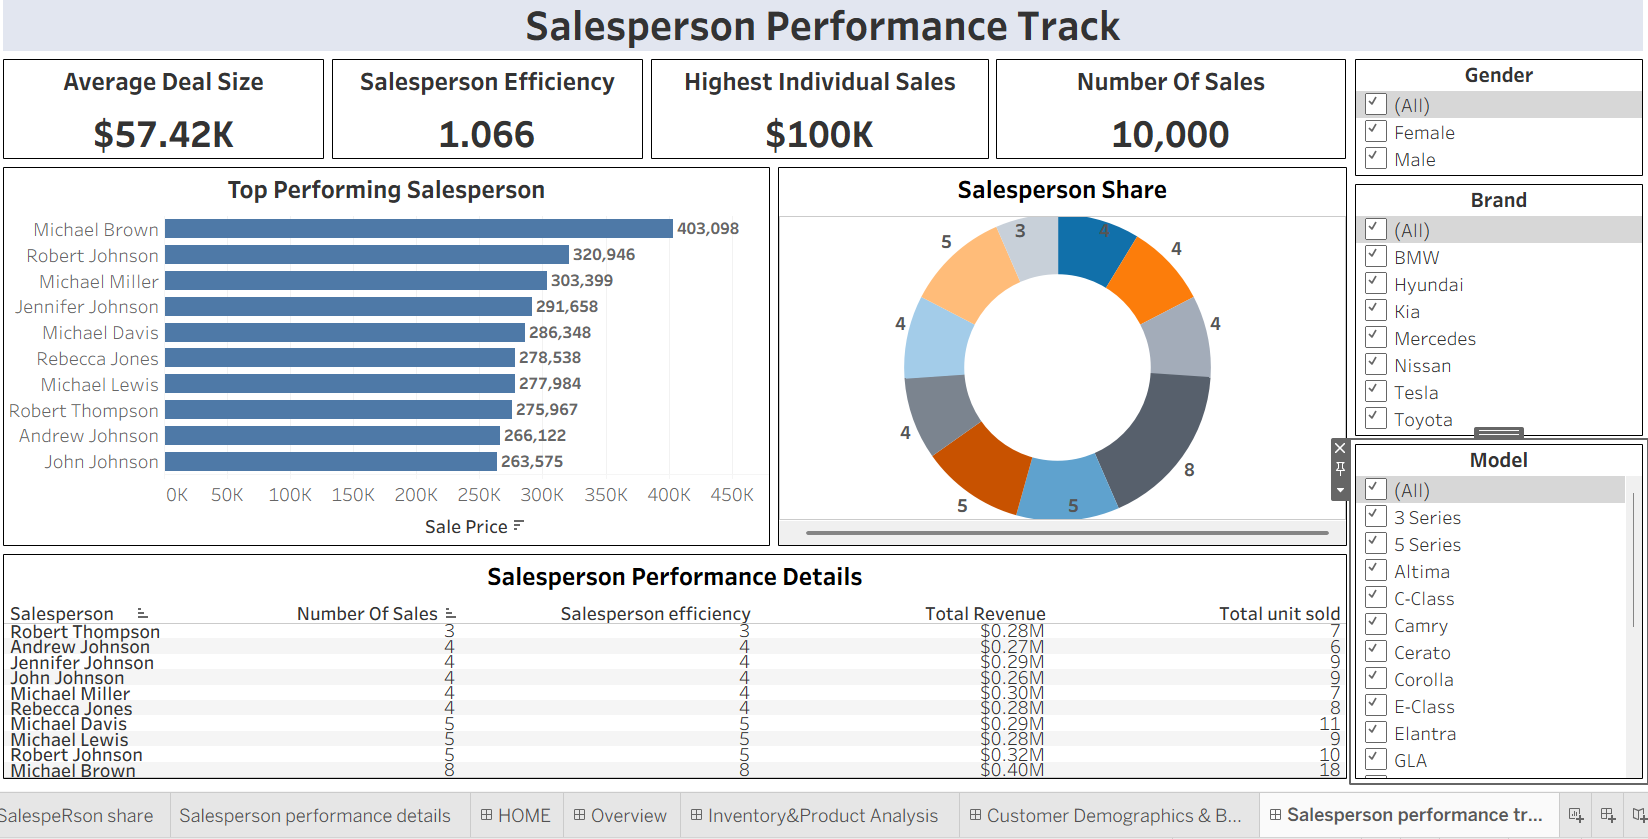

This screenshot's page, from the dashboard's own definition file:
{"tool":"tableau","page":{"name":"Salesperson performance track","canvas":[1000,1000],"units":"permille","ordinal":4},"visuals":[{"type":"title","box":[4.8,9.9,990.4,76.9]},{"type":"worksheet","title":"Average deal size","mark":"Automatic","box":[4.8,86.9,197.9,134]},{"type":"worksheet","title":"salesperson efficiency","mark":"Automatic","box":[202.7,86.9,191.5,134]},{"type":"worksheet","title":"Highest individual sale","mark":"Automatic","box":[394.2,86.9,207.6,134]},{"type":"worksheet","title":"Number of sales","mark":"Automatic","box":[601.9,86.9,215.4,134]},{"type":"filter","title":"Top performing salesperson","param":"[federated.1b1klsr0mw01x615c70iu1gsuma9].[none:Gender:nk]","box":[817.3,86.9,177.9,155.1]},{"type":"worksheet","title":"Top performing salesperson","mark":"Automatic","rows":["Salesperson"],"cols":["Sale_Price"],"box":[4.8,220.8,465.7,480.5]},{"type":"worksheet","title":"SalespeRson share","mark":"Pie","cols":["Calculation_0398899618541593","Calculation_0398899618541593"],"box":[470.5,220.8,346.8,480.5]},{"type":"filter","title":"Top performing salesperson","param":"[federated.1b1klsr0mw01x615c70iu1gsuma9].[none:Brand:nk]","box":[817.3,242,177.9,322.6]},{"type":"filter","title":"Top performing salesperson","param":"[federated.1b1klsr0mw01x615c70iu1gsuma9].[none:Model:nk]","box":[817.3,564.5,177.9,425.5]},{"type":"worksheet","title":"Salesperson performance details","mark":"Automatic","rows":["Salesperson"],"box":[4.8,701.3,812.5,288.8]}]}

Visuals, with their boxes on the dashboard's canvas, which has no fixed pixel size, in thousandths of its width and height (x1, y1, x2, y2). These are canvas units, not pixel positions in the 1648x839 screenshot, which may show the page scaled, cropped or inside an application window:
title: <box>5,10,995,87</box>
"Average deal size" worksheet: <box>5,87,203,221</box>
"salesperson efficiency" worksheet: <box>203,87,394,221</box>
"Highest individual sale" worksheet: <box>394,87,602,221</box>
"Number of sales" worksheet: <box>602,87,817,221</box>
"Top performing salesperson" filter: <box>817,87,995,242</box>
"Top performing salesperson" worksheet: <box>5,221,470,701</box>
"SalespeRson share" worksheet (Pie marks): <box>470,221,817,701</box>
"Top performing salesperson" filter: <box>817,242,995,565</box>
"Top performing salesperson" filter: <box>817,564,995,990</box>
"Salesperson performance details" worksheet: <box>5,701,817,990</box>
